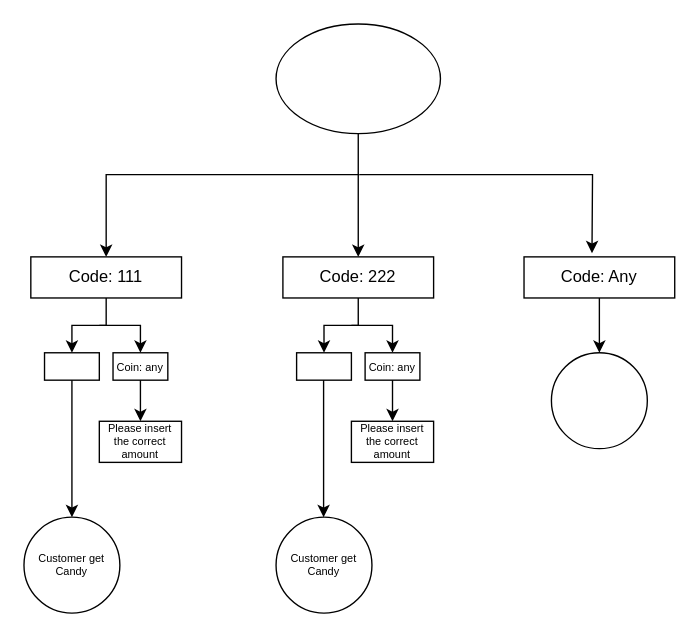
Image size: 699x637. Some labels were removed from this diagram. The centre of each missing label's shape, as x and y in pixels:
Coin: 2: [71,365]
Coin: 3: [323,365]
Customer: [357,78]
Message occur: Please type the correct code: [598,400]
